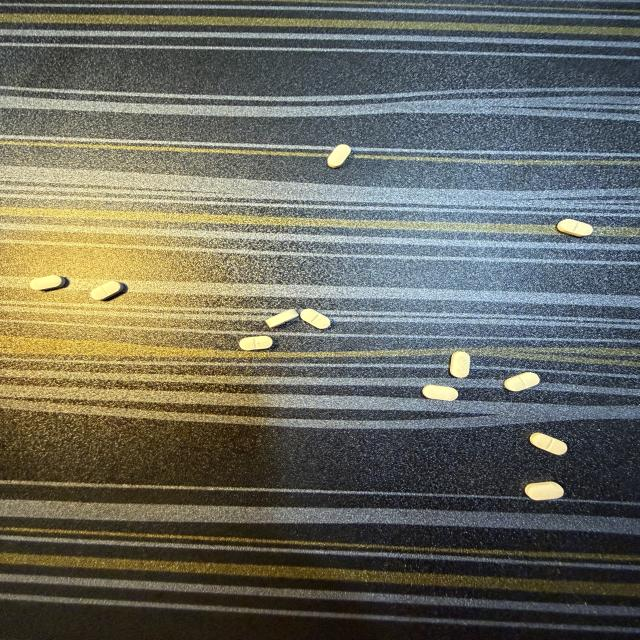pill: (530, 433, 567, 455), (525, 482, 564, 500), (557, 219, 593, 237), (504, 373, 540, 391), (90, 281, 124, 300), (266, 309, 298, 328), (300, 309, 330, 329), (30, 275, 66, 290), (328, 145, 351, 168), (423, 385, 458, 400), (450, 352, 470, 378), (239, 336, 272, 350)
